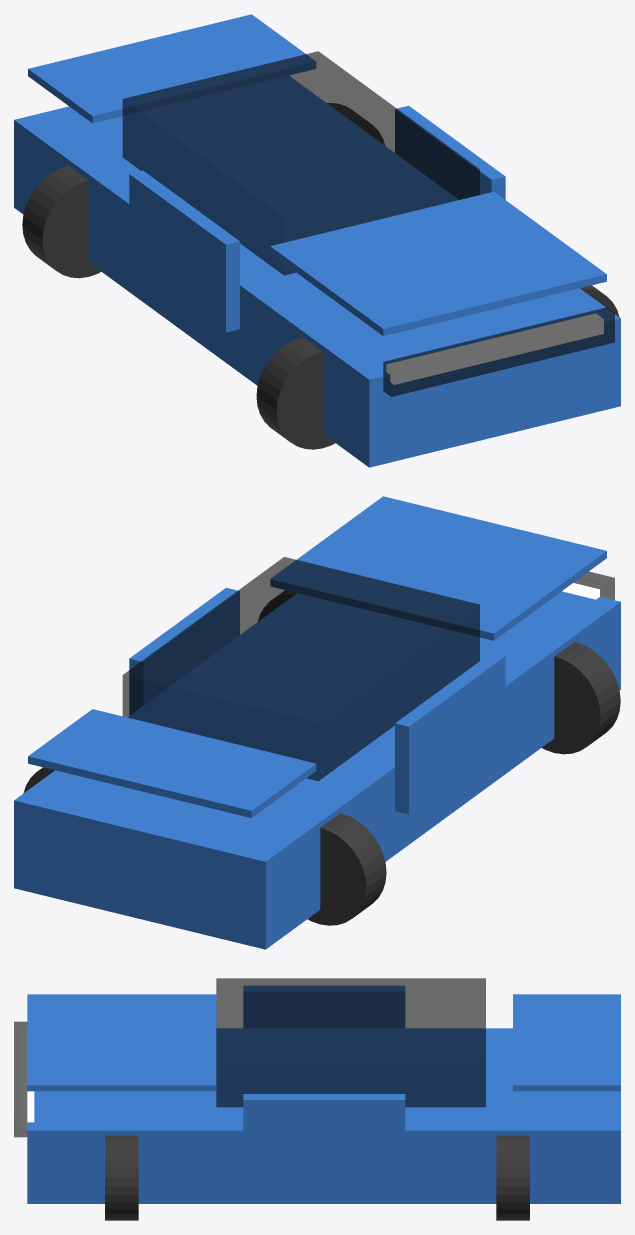
The model's file is BMW_M4_FROM Antigravity.glb.
3 views of the same model, one above another, from view 1: azimuth 30°, elevation 25°; view 2: azimuth 150°, elevation 25°; view 3: azimuth 270°, elevation 25° (orthographic). The views are drawn at different scales.
Visible parts, largest first — view 1: Body_Paint, Glass_Windows, Hood, Trunk, Door_R, Headlight_Glass, Tires_RR, Tires_FR, Door_L, Headlight_Emissive; view 2: Body_Paint, Glass_Windows, Hood, Trunk, Door_R, Door_L, Tires_FR, Tires_RR, Headlight_Glass; view 3: Body_Paint, Glass_Windows, Hood, Door_L, Trunk, Door_R, Tires_FL, Tires_RL, Headlight_Glass, Headlight_Emissive.
Boxes of the visible parts, left/top/right/bottom form: Body_Paint: left=14, top=76, right=620, bottom=467; Glass_Windows: left=122, top=51, right=479, bottom=275; Hood: left=270, top=191, right=606, bottom=336; Trunk: left=28, top=14, right=315, bottom=123; Door_R: left=129, top=170, right=239, bottom=332; Headlight_Glass: left=383, top=307, right=614, bottom=396; Tires_RR: left=22, top=165, right=101, bottom=278; Tires_FR: left=256, top=337, right=335, bottom=449; Door_L: left=395, top=105, right=505, bottom=199; Headlight_Emissive: left=386, top=313, right=603, bottom=384; Body_Paint: left=14, top=591, right=620, bottom=949; Glass_Windows: left=122, top=557, right=479, bottom=780; Hood: left=270, top=496, right=606, bottom=640; Trunk: left=28, top=709, right=316, bottom=818; Door_R: left=395, top=652, right=505, bottom=814; Door_L: left=129, top=587, right=239, bottom=715; Tires_FR: left=542, top=641, right=620, bottom=754; Tires_RR: left=307, top=813, right=386, bottom=925; Headlight_Glass: left=573, top=571, right=614, bottom=600; Body_Paint: left=27, top=1028, right=620, bottom=1203; Glass_Windows: left=216, top=978, right=485, bottom=1107; Hood: left=27, top=994, right=216, bottom=1091; Door_L: left=243, top=1094, right=405, bottom=1173; Trunk: left=513, top=994, right=620, bottom=1091; Door_R: left=243, top=986, right=404, bottom=1027; Tires_FL: left=105, top=1135, right=138, bottom=1220; Tires_RL: left=496, top=1135, right=529, bottom=1220; Headlight_Glass: left=14, top=1021, right=27, bottom=1137; Headlight_Emissive: left=21, top=1031, right=34, bottom=1127.
Size of the model in its own units: 2.46 by 1.2 by 4.5.
